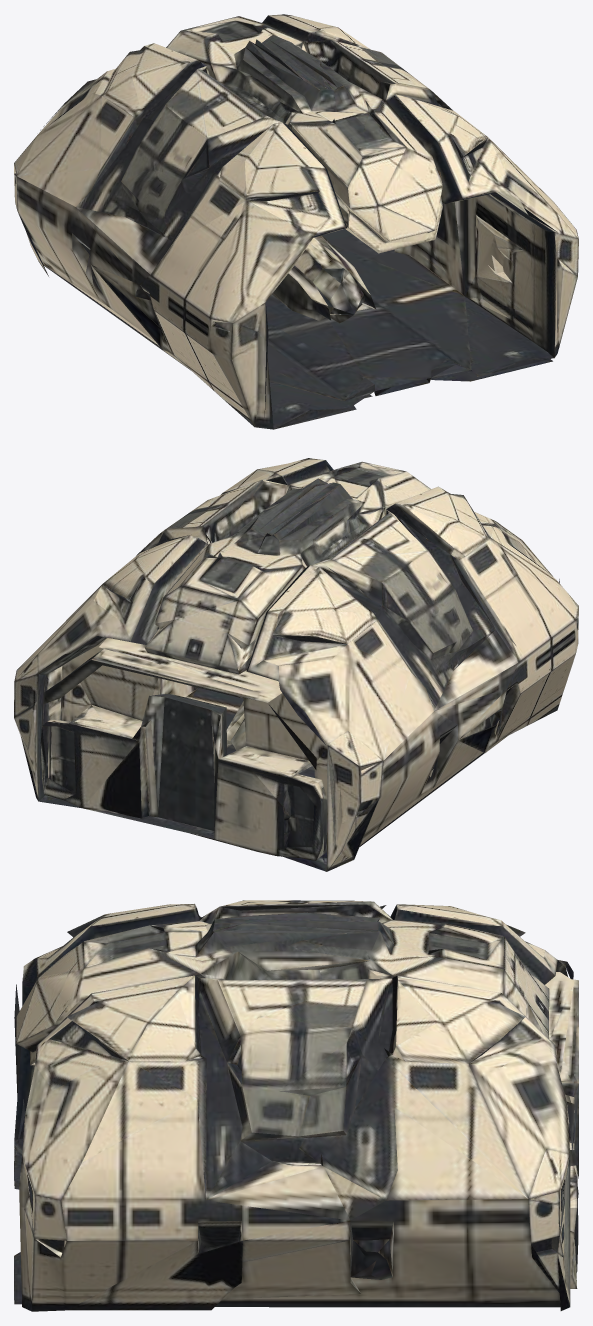
Rendered from facility-hangar.glb.
The picture shows the model from 3 angles, top to bottom: view 1: azimuth 30°, elevation 25°; view 2: azimuth 150°, elevation 25°; view 3: azimuth 270°, elevation 25°; orthographic projection. The views are drawn at different scales.
Size of the model in its own units: 1.72 by 1.13 by 1.9.
Materials: 1 (1 with a texture image).
